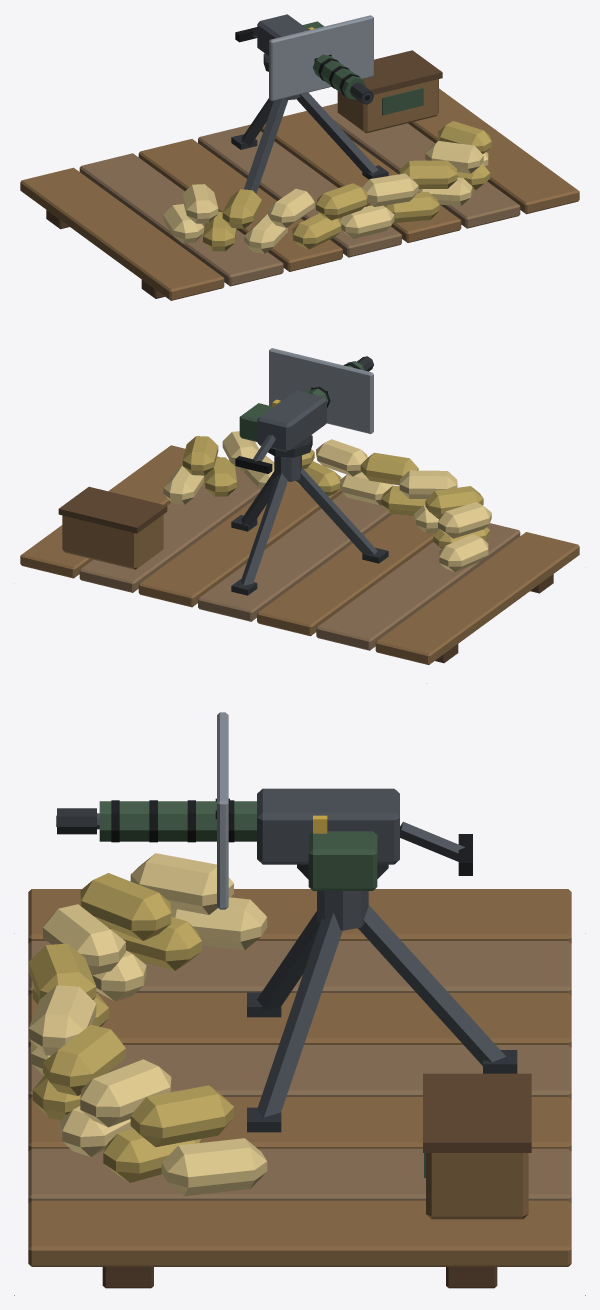
Rendered from tourelle_base.glb.
3 renders of one model, top to bottom at view 1: azimuth 30°, elevation 25°; view 2: azimuth 150°, elevation 25°; view 3: azimuth 270°, elevation 25°, orthographic. The views are drawn at different scales.
Visible parts, largest first — view 1: pieces_bois.002, pieces_bois_sec.002, pieces_sable.002, pieces_herbe_seche.002, tourelle_acier.006, pieces_acier_sombre.008, pieces_bois_sombre.002, tourelle_acier_sombre.008, tourelle_vert_fonce.004, pieces_vert_fonce.004, tourelle_noir.004, pieces_fonte.008 (+1 smaller); view 2: pieces_bois.002, pieces_bois_sec.002, pieces_sable.002, pieces_herbe_seche.002, tourelle_acier.006, pieces_acier_sombre.008, pieces_bois_sombre.002, tourelle_acier_sombre.008, tourelle_vert_fonce.004, pieces_fonte.008, tourelle_fonte.006, tourelle_noir.004; view 3: pieces_bois.002, pieces_bois_sec.002, pieces_sable.002, pieces_herbe_seche.002, pieces_acier_sombre.008, pieces_bois_sombre.002, tourelle_acier_sombre.008, tourelle_vert_fonce.004, tourelle_acier.006, tourelle_noir.004, pieces_fonte.008, tourelle_fonte.006.
Part boxes in pixels (<box>): pieces_bois.002: <box>20,79,579,300</box>; pieces_bois_sec.002: <box>79,103,520,286</box>; pieces_sable.002: <box>163,141,488,253</box>; pieces_herbe_seche.002: <box>203,121,491,251</box>; tourelle_acier.006: <box>269,15,373,101</box>; pieces_acier_sombre.008: <box>241,92,378,193</box>; pieces_bois_sombre.002: <box>46,50,442,298</box>; tourelle_acier_sombre.008: <box>252,14,371,101</box>; tourelle_vert_fonce.004: <box>302,21,365,99</box>; pieces_vert_fonce.004: <box>382,88,423,115</box>; tourelle_noir.004: <box>235,27,370,100</box>; pieces_fonte.008: <box>231,134,388,179</box>; pieces_bois.002: <box>20,445,579,664</box>; pieces_bois_sec.002: <box>79,460,520,650</box>; pieces_sable.002: <box>163,431,491,572</box>; pieces_herbe_seche.002: <box>182,436,490,548</box>; tourelle_acier.006: <box>269,348,373,433</box>; pieces_acier_sombre.008: <box>240,455,377,585</box>; pieces_bois_sombre.002: <box>58,486,553,663</box>; tourelle_acier_sombre.008: <box>253,390,326,461</box>; tourelle_vert_fonce.004: <box>239,361,364,441</box>; pieces_fonte.008: <box>231,515,388,595</box>; tourelle_fonte.006: <box>268,356,373,457</box>; tourelle_noir.004: <box>235,363,360,473</box>; pieces_bois.002: <box>28,889,571,1266</box>; pieces_bois_sec.002: <box>28,941,571,1203</box>; pieces_sable.002: <box>28,853,267,1196</box>; pieces_herbe_seche.002: <box>28,873,233,1182</box>; pieces_acier_sombre.008: <box>257,891,506,1117</box>; pieces_bois_sombre.002: <box>102,1073,531,1288</box>; tourelle_acier_sombre.008: <box>97,788,464,864</box>; tourelle_vert_fonce.004: <box>99,801,377,890</box>; tourelle_acier.006: <box>217,712,228,909</box>; tourelle_noir.004: <box>56,798,472,875</box>; pieces_fonte.008: <box>247,992,517,1132</box>; tourelle_fonte.006: <box>57,808,388,879</box>.
Bounding box in the file's own units: 1.5 × 0.69 × 1.
